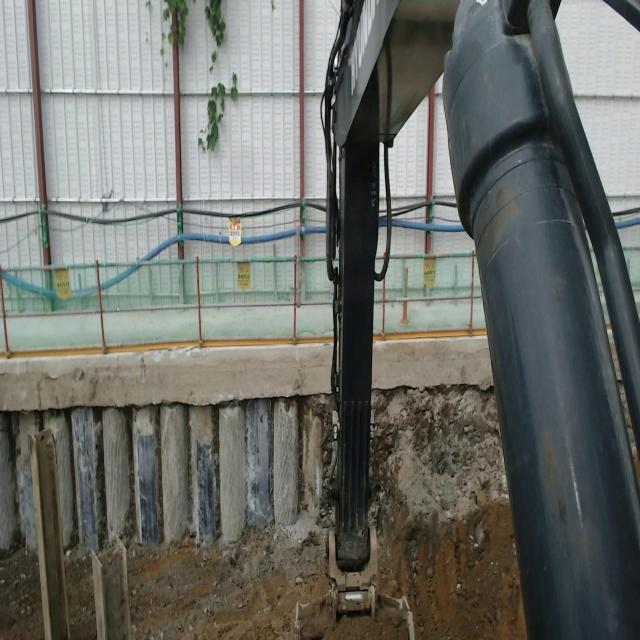cement: (0, 341, 331, 410), (373, 334, 492, 389)
red-sand: (127, 530, 329, 639), (377, 501, 525, 639), (0, 551, 44, 639), (301, 603, 408, 639), (65, 548, 96, 639)
